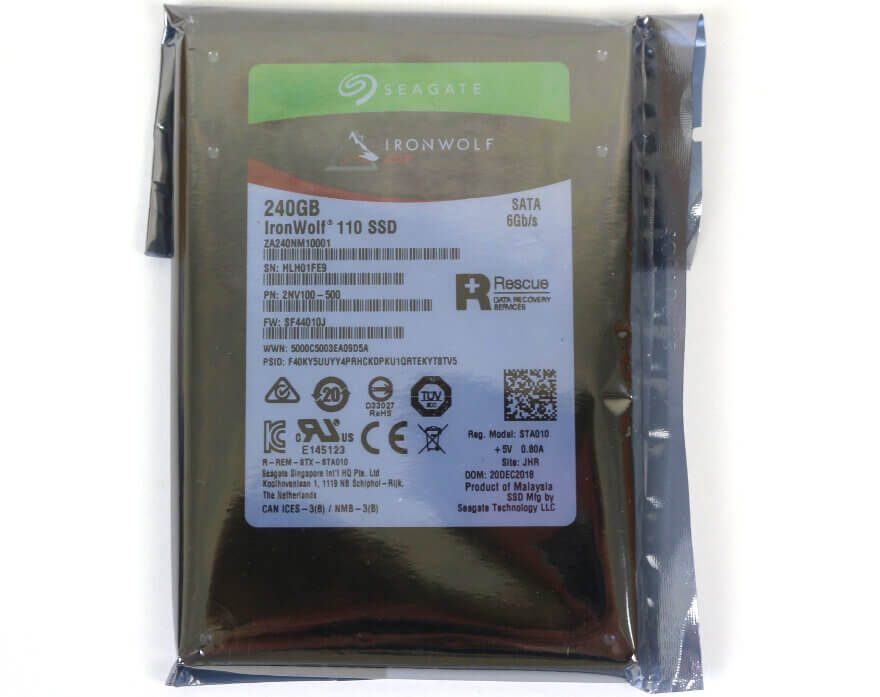seagate-hdd-240gb: (182, 15, 666, 652)
